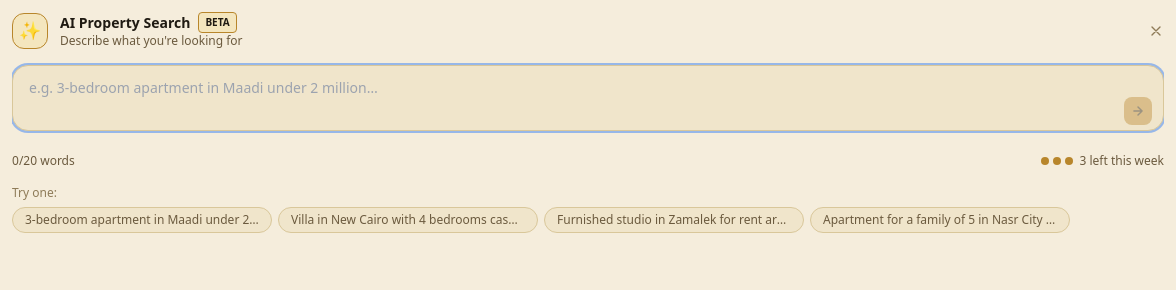
Scenario: AISearchPanel › shows error message on API failure
The image size is (1176, 290).
Type "3 bedroom apartment in Maadi under 2 million" into the text box with placeholder "e.g. 3-bedroom apartment in Maadi under 2 million…" at point(588, 98), box [12, 65, 1164, 131]
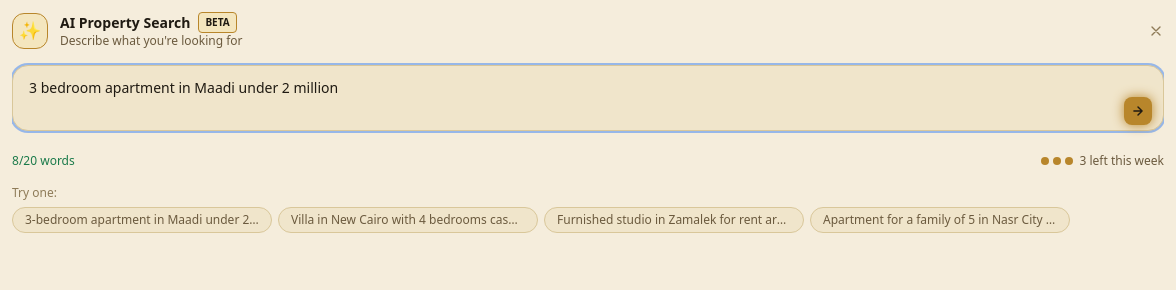
Press Enter
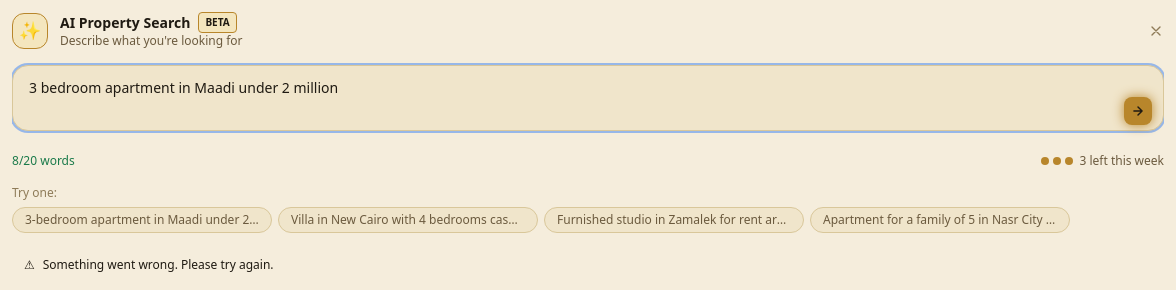
Expected: the text "Something went wrong. Please try again." is shown, [43, 257, 274, 273]
